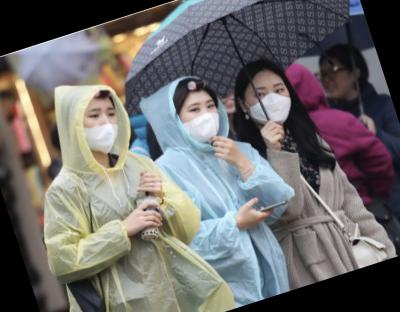with_mask: (76, 97, 130, 160), (241, 75, 298, 133), (176, 92, 229, 149)
without_mask: (312, 57, 355, 104)
